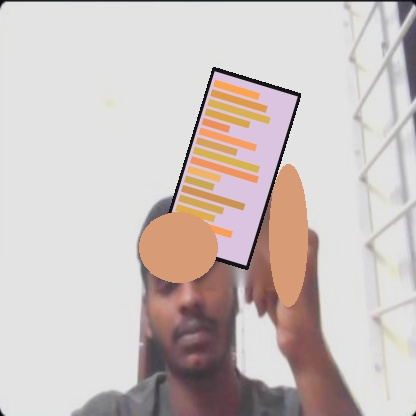cell_phone: (159, 66, 301, 270)
